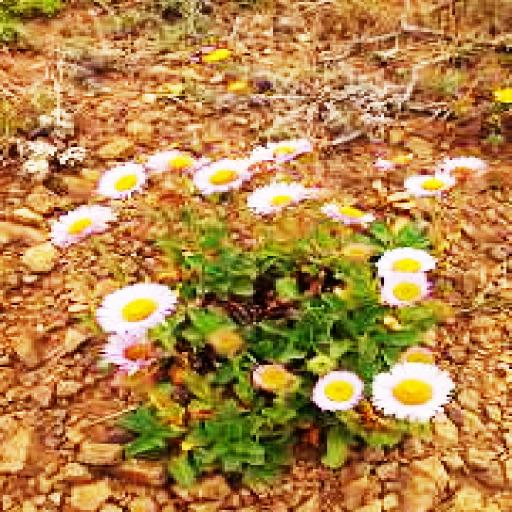daisy: (376, 363, 452, 418), (96, 288, 174, 331), (51, 207, 114, 239), (244, 179, 302, 211), (94, 164, 148, 194), (100, 337, 156, 365), (316, 372, 361, 406), (373, 247, 435, 271), (196, 160, 242, 192), (378, 271, 427, 301), (324, 201, 376, 226), (145, 145, 196, 169), (265, 139, 310, 160), (407, 175, 449, 194), (450, 156, 486, 175)
